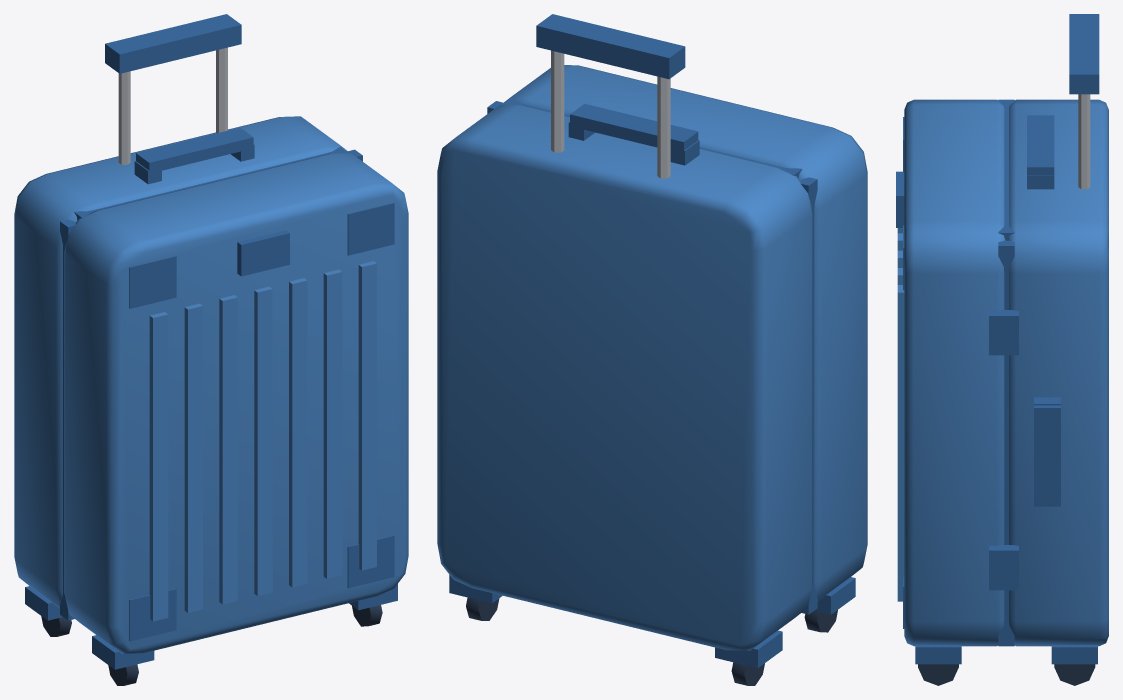
The model's file is SuitcaseS02.glb.
3 views of the same model, side by side, from view 1: azimuth 30°, elevation 25°; view 2: azimuth 150°, elevation 25°; view 3: azimuth 270°, elevation 25° (orthographic). The views are drawn at different scales.
Visible parts, largest first — view 1: Body_Shell, Body_Trim, Body_Rods, Body_DarkParts; view 2: Body_Shell, Body_Trim, Body_Rods, Body_DarkParts; view 3: Body_Shell, Body_Trim, Body_DarkParts, Body_Rods.
Boxes of the visible parts, bbox=[...] form: Body_Shell: bbox=[14, 116, 408, 653]; Body_Trim: bbox=[25, 14, 397, 669]; Body_Rods: bbox=[118, 47, 227, 164]; Body_DarkParts: bbox=[41, 605, 382, 685]; Body_Shell: bbox=[437, 65, 867, 650]; Body_Trim: bbox=[449, 14, 855, 668]; Body_Rods: bbox=[551, 50, 670, 178]; Body_DarkParts: bbox=[466, 597, 837, 685]; Body_Shell: bbox=[897, 99, 1108, 646]; Body_Trim: bbox=[896, 14, 1099, 664]; Body_DarkParts: bbox=[918, 664, 1095, 685]; Body_Rods: bbox=[1078, 94, 1090, 189].
Size of the model in its own units: 2.76 by 4.68 by 1.56.
